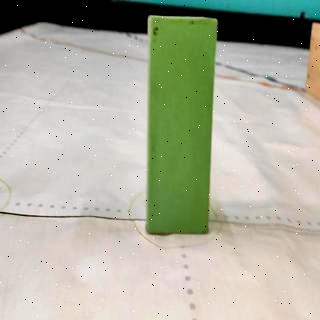greenbox: (146, 13, 218, 236)
